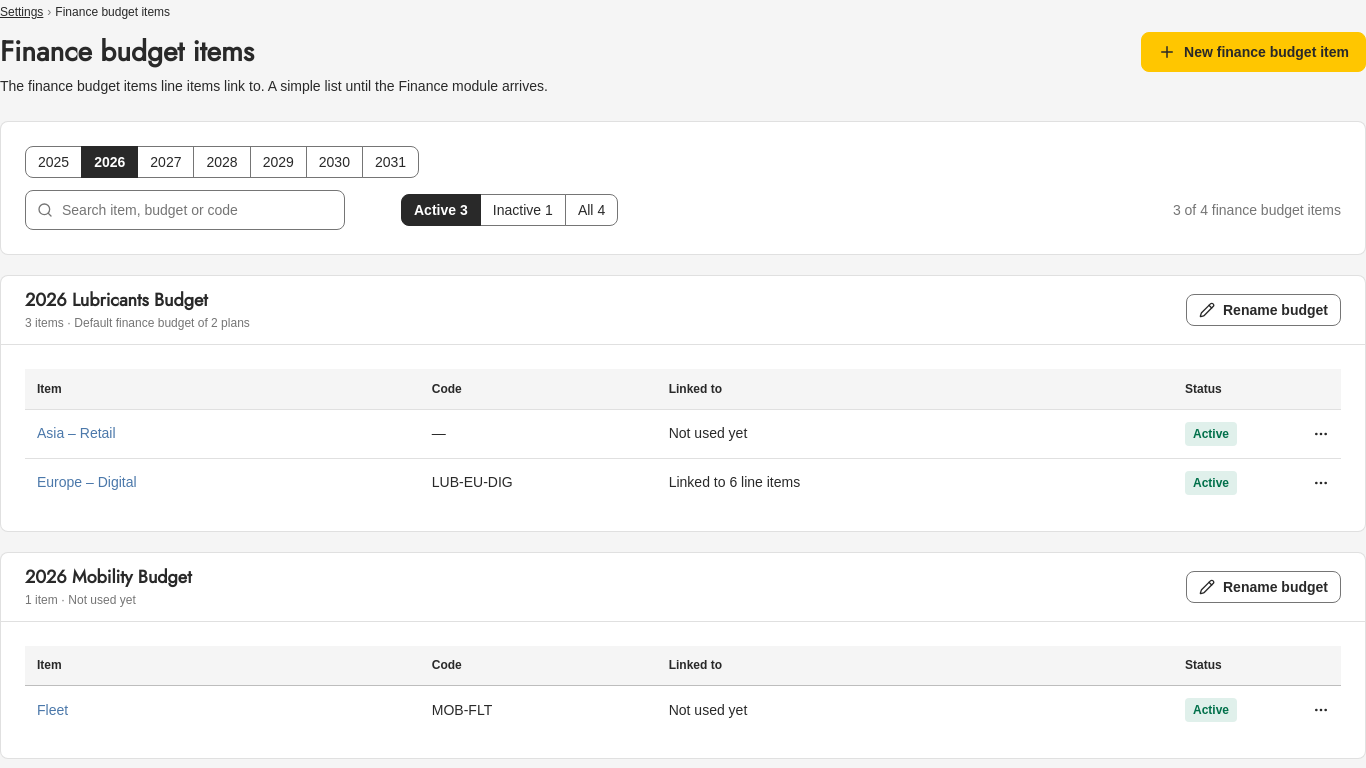
FinanceBudgetItemsPage: status and delete (US5 scenario 5, FR-004) › moves an unused item to the recycle bin and offers Undo
Click the button named "Actions for Asia – Retail".
click(1321, 434)  # box [1305,418,1337,450]
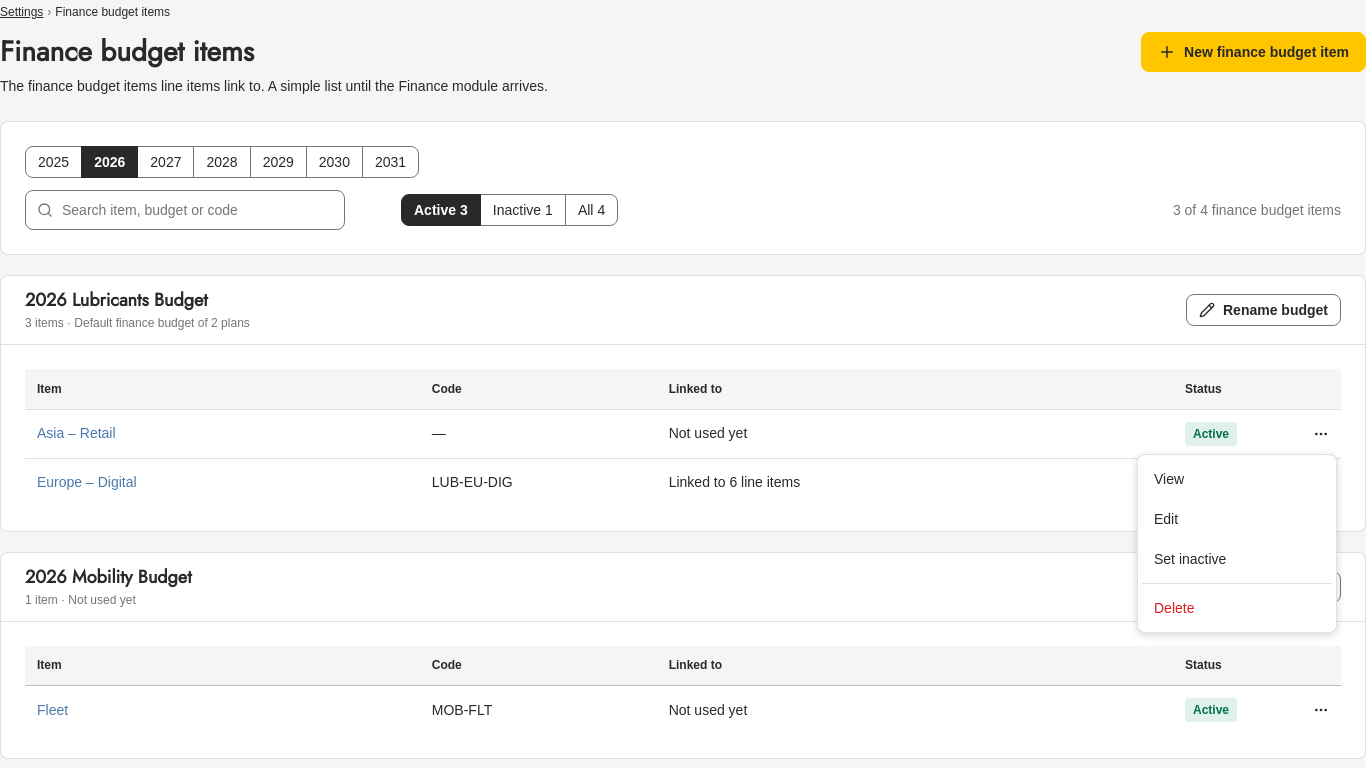
Click the menu item "Delete".
click(1174, 608)  # box [1154,600,1194,616]
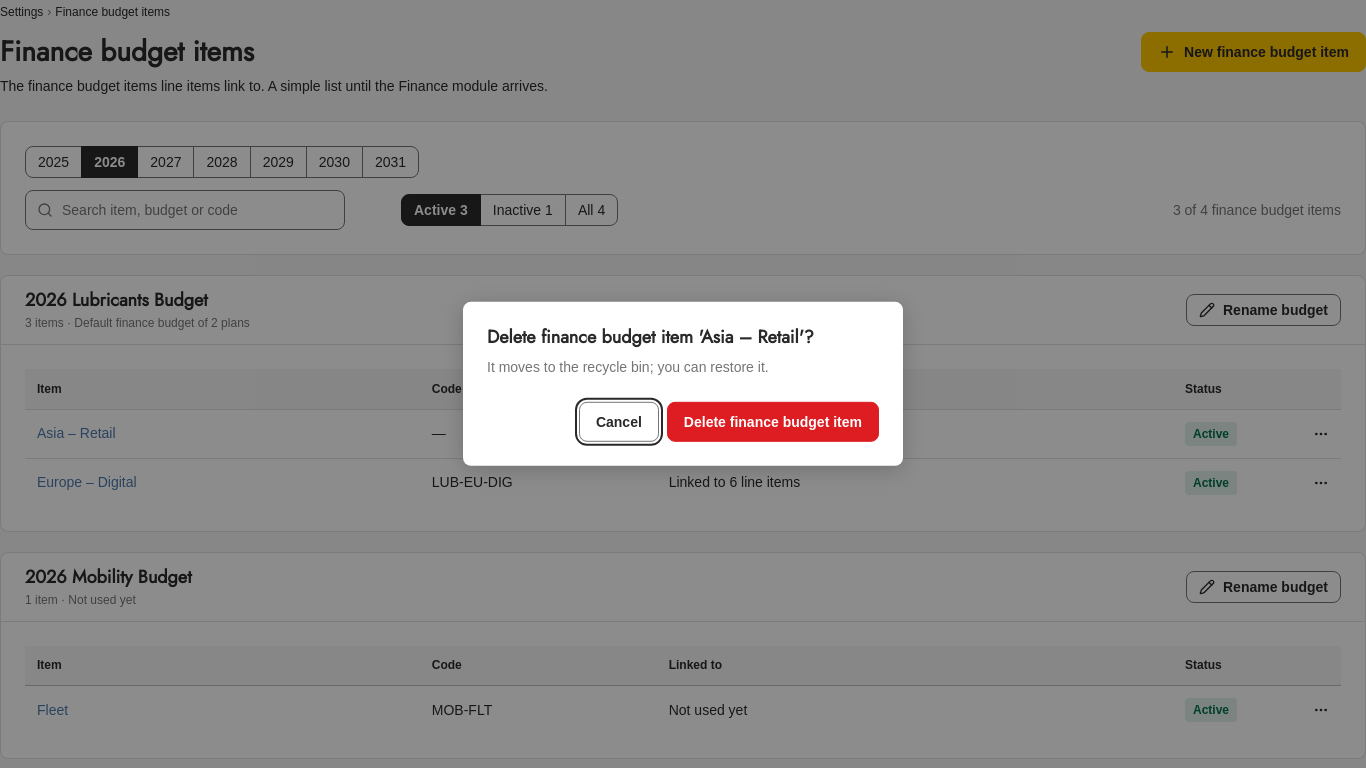
Click the button "Delete finance budget item".
click(773, 422)  # box [667,402,879,442]
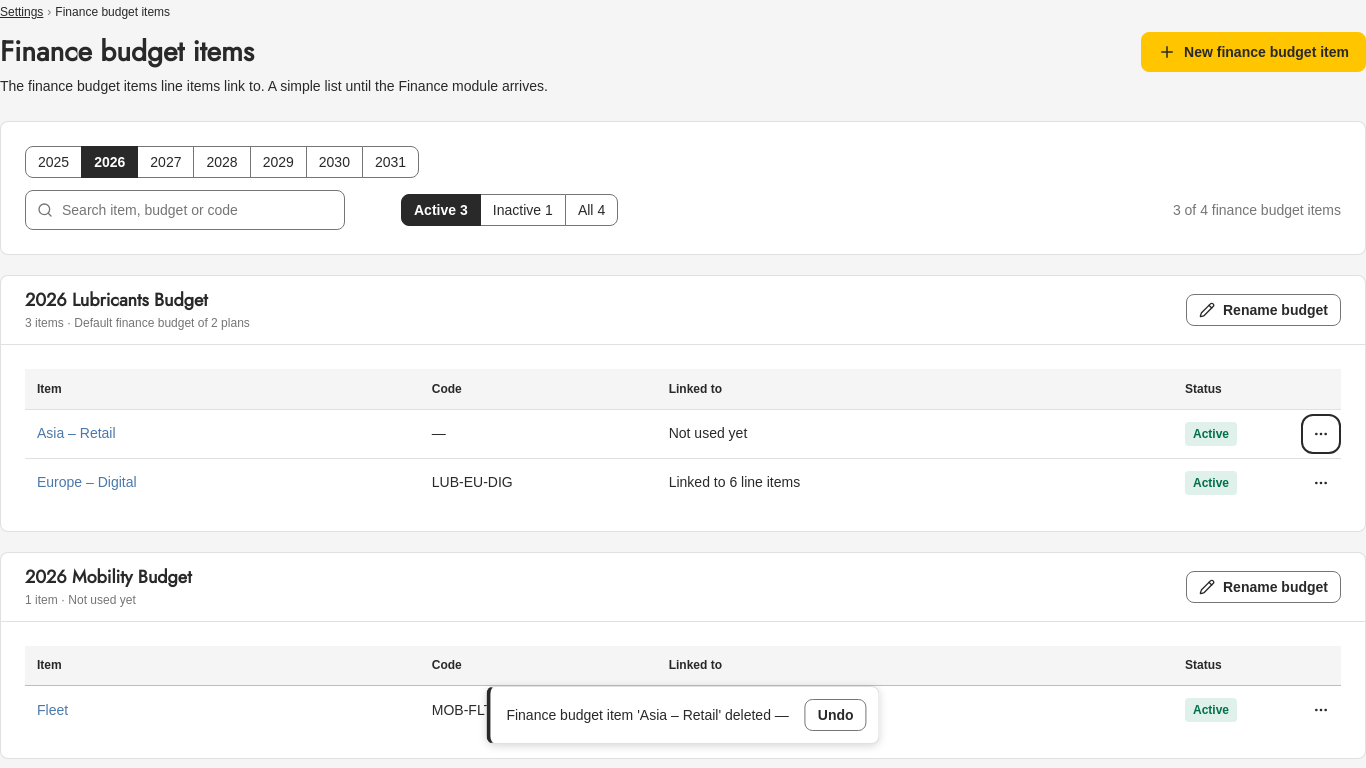
Expected: the button "Undo" is shown, [805,699,867,731]
